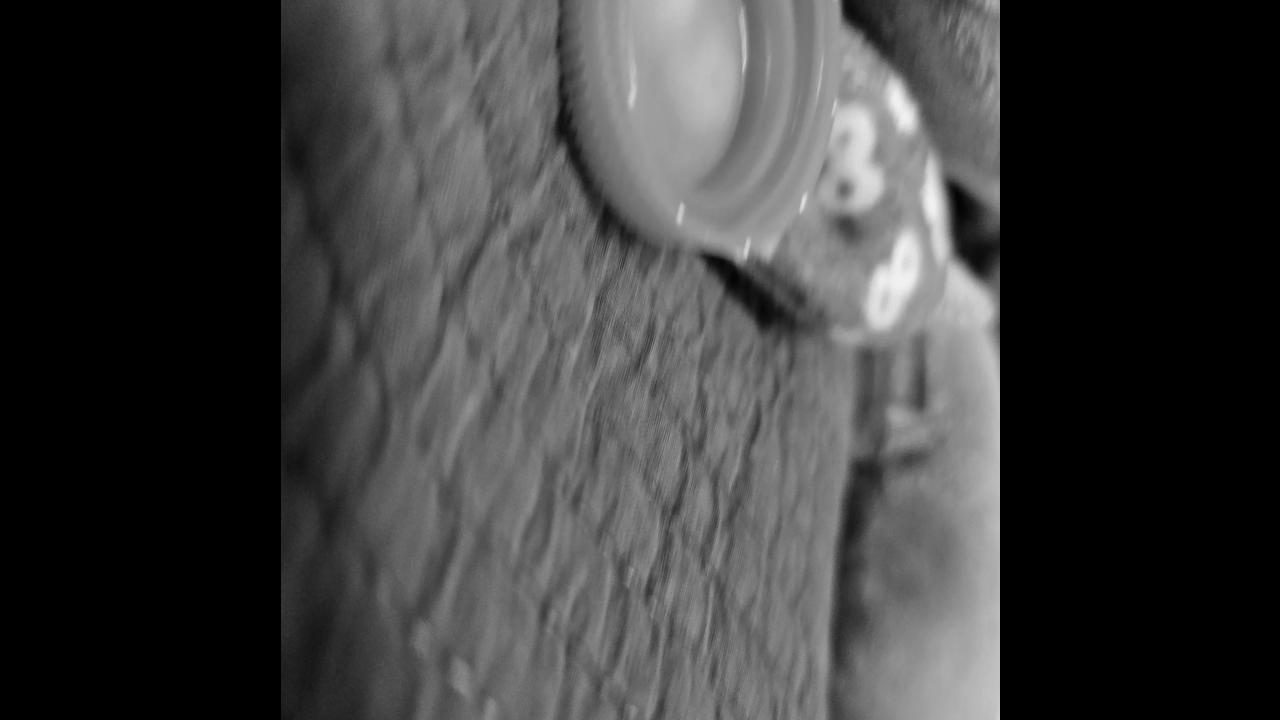bottle_cap: (567, 0, 838, 246)
